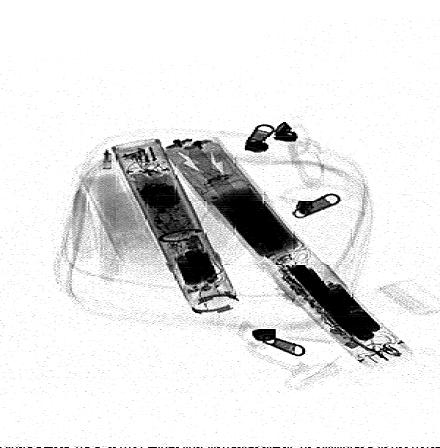Baton: (160, 136, 413, 371), (110, 138, 242, 315)
